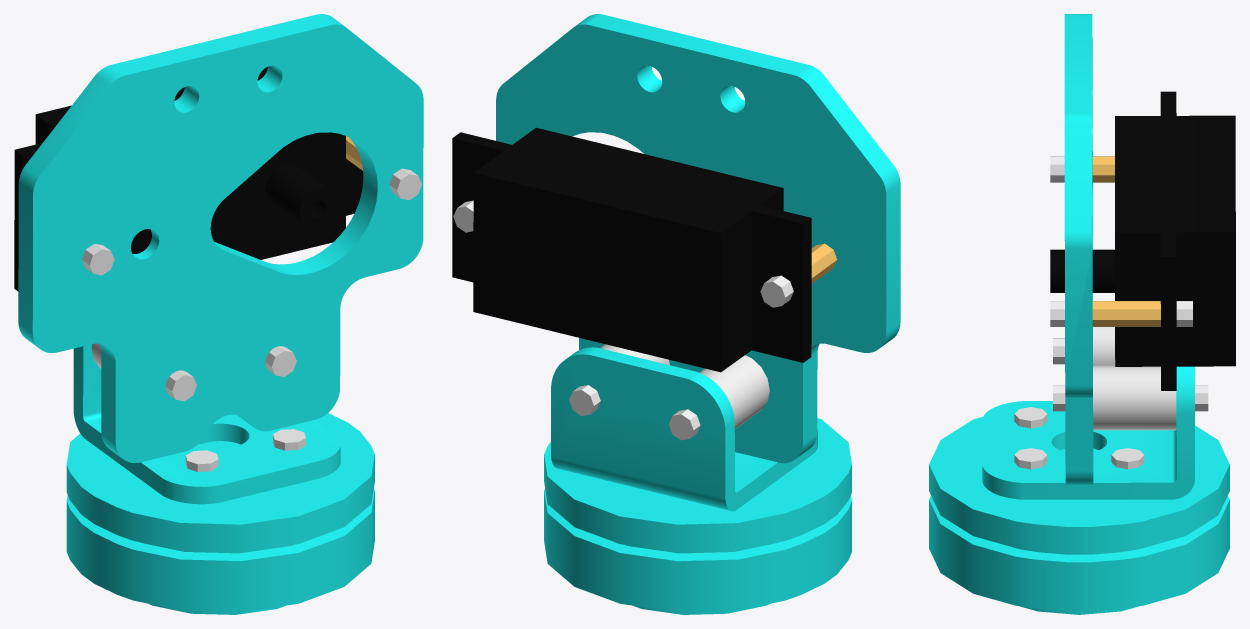
File: hand01.gltf
The picture shows the model from 3 angles, left to right: view 1: azimuth 30°, elevation 25°; view 2: azimuth 150°, elevation 25°; view 3: azimuth 270°, elevation 25°; orthographic projection. The views are drawn at different scales.
Parts seen in each view (by area): view 1: ??--?3.001; view 2: ??--?3.001; view 3: ??--?3.001.
Part boxes in pixels (box(x1,y1,x2,y2)): ??--?3.001: box(14, 14, 423, 614); ??--?3.001: box(452, 14, 900, 614); ??--?3.001: box(929, 14, 1235, 614).
Size of the model in its own units: 1.85 by 2.37 by 1.31.
